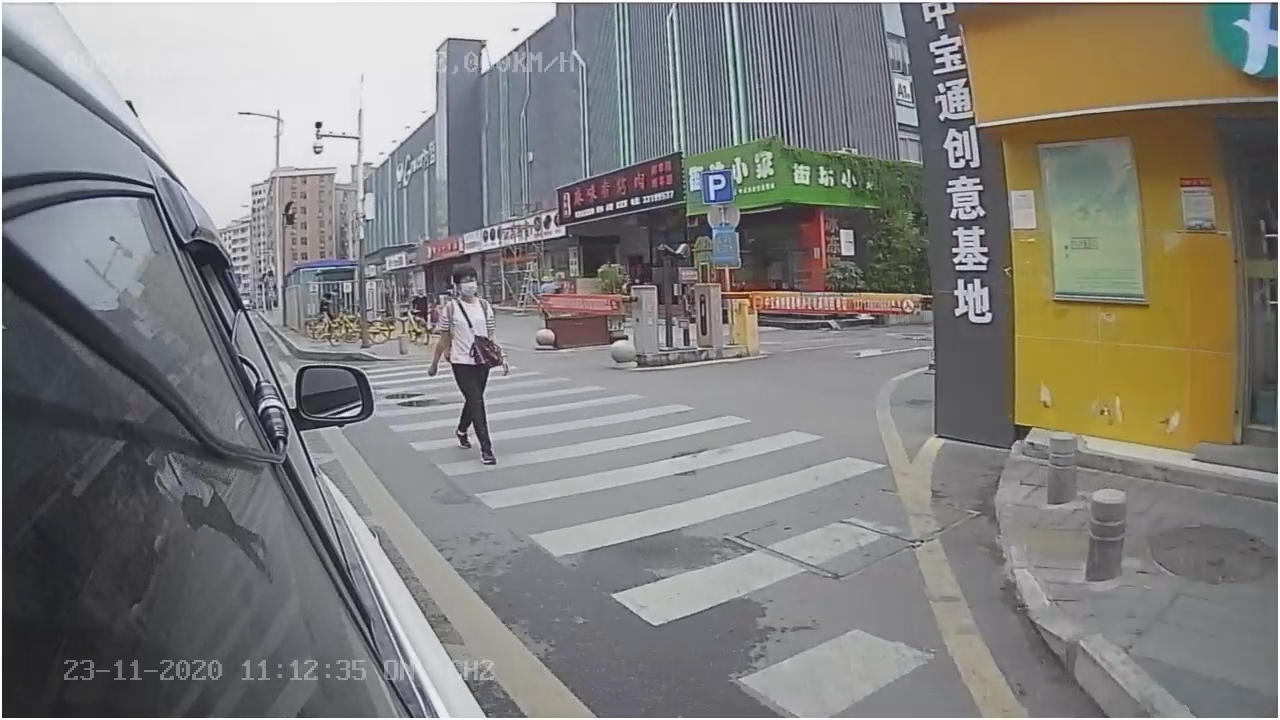person: (427, 267, 507, 466)
